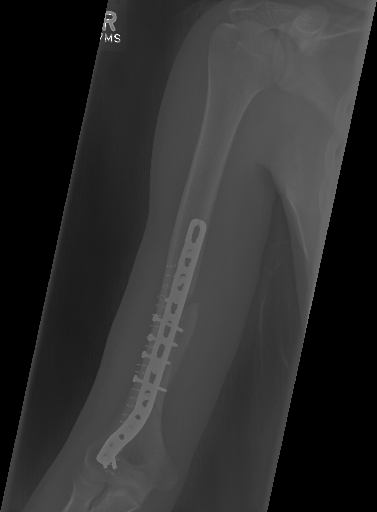implant: (131, 217, 215, 397)
